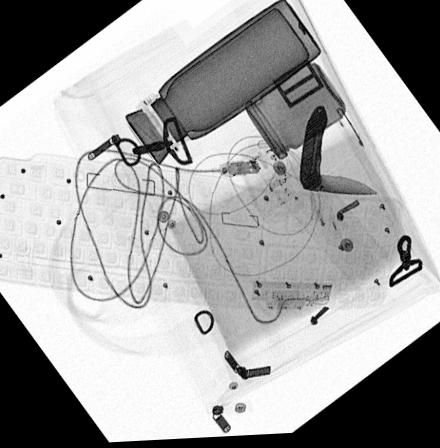Knife: (295, 106, 378, 200)
